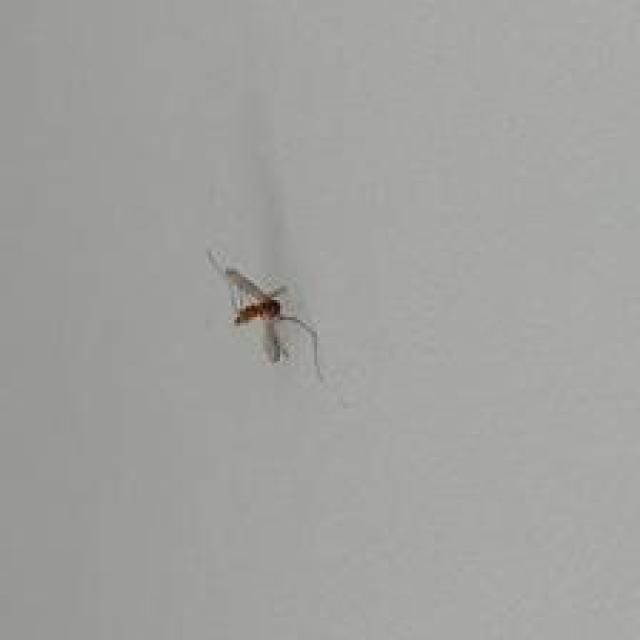Culex: (206, 247, 323, 376)
